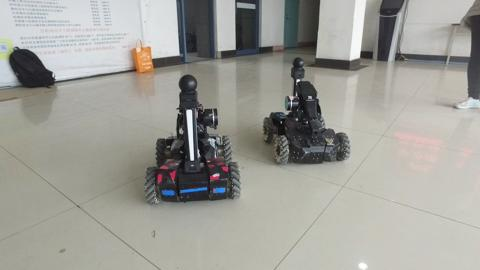chariot: (134, 72, 247, 205), (258, 55, 353, 176)
